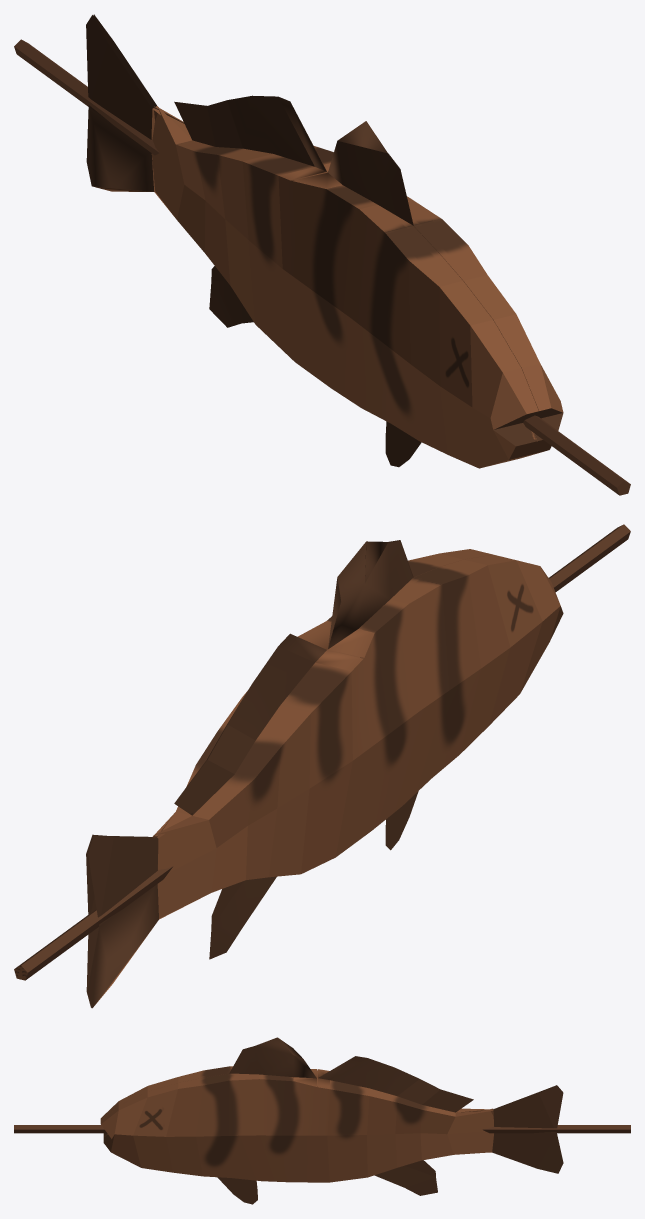
Rendered from Fish(1) 1.fbx.
3 views of the same model, one above another, from view 1: azimuth 30°, elevation 25°; view 2: azimuth 150°, elevation 25°; view 3: azimuth 270°, elevation 25° (orthographic). The views are drawn at different scales.
Parts seen in each view (by area): view 1: Cube.006; view 2: Cube.006; view 3: Cube.006.
Boxes of the visible parts, <box> form: Cube.006: <box>14,14,630,495</box>; Cube.006: <box>14,524,630,1008</box>; Cube.006: <box>14,1037,630,1204</box>.
Bounding box in the file's own units: 14.38 × 61.48 × 206.
1 material, 1 textured.
